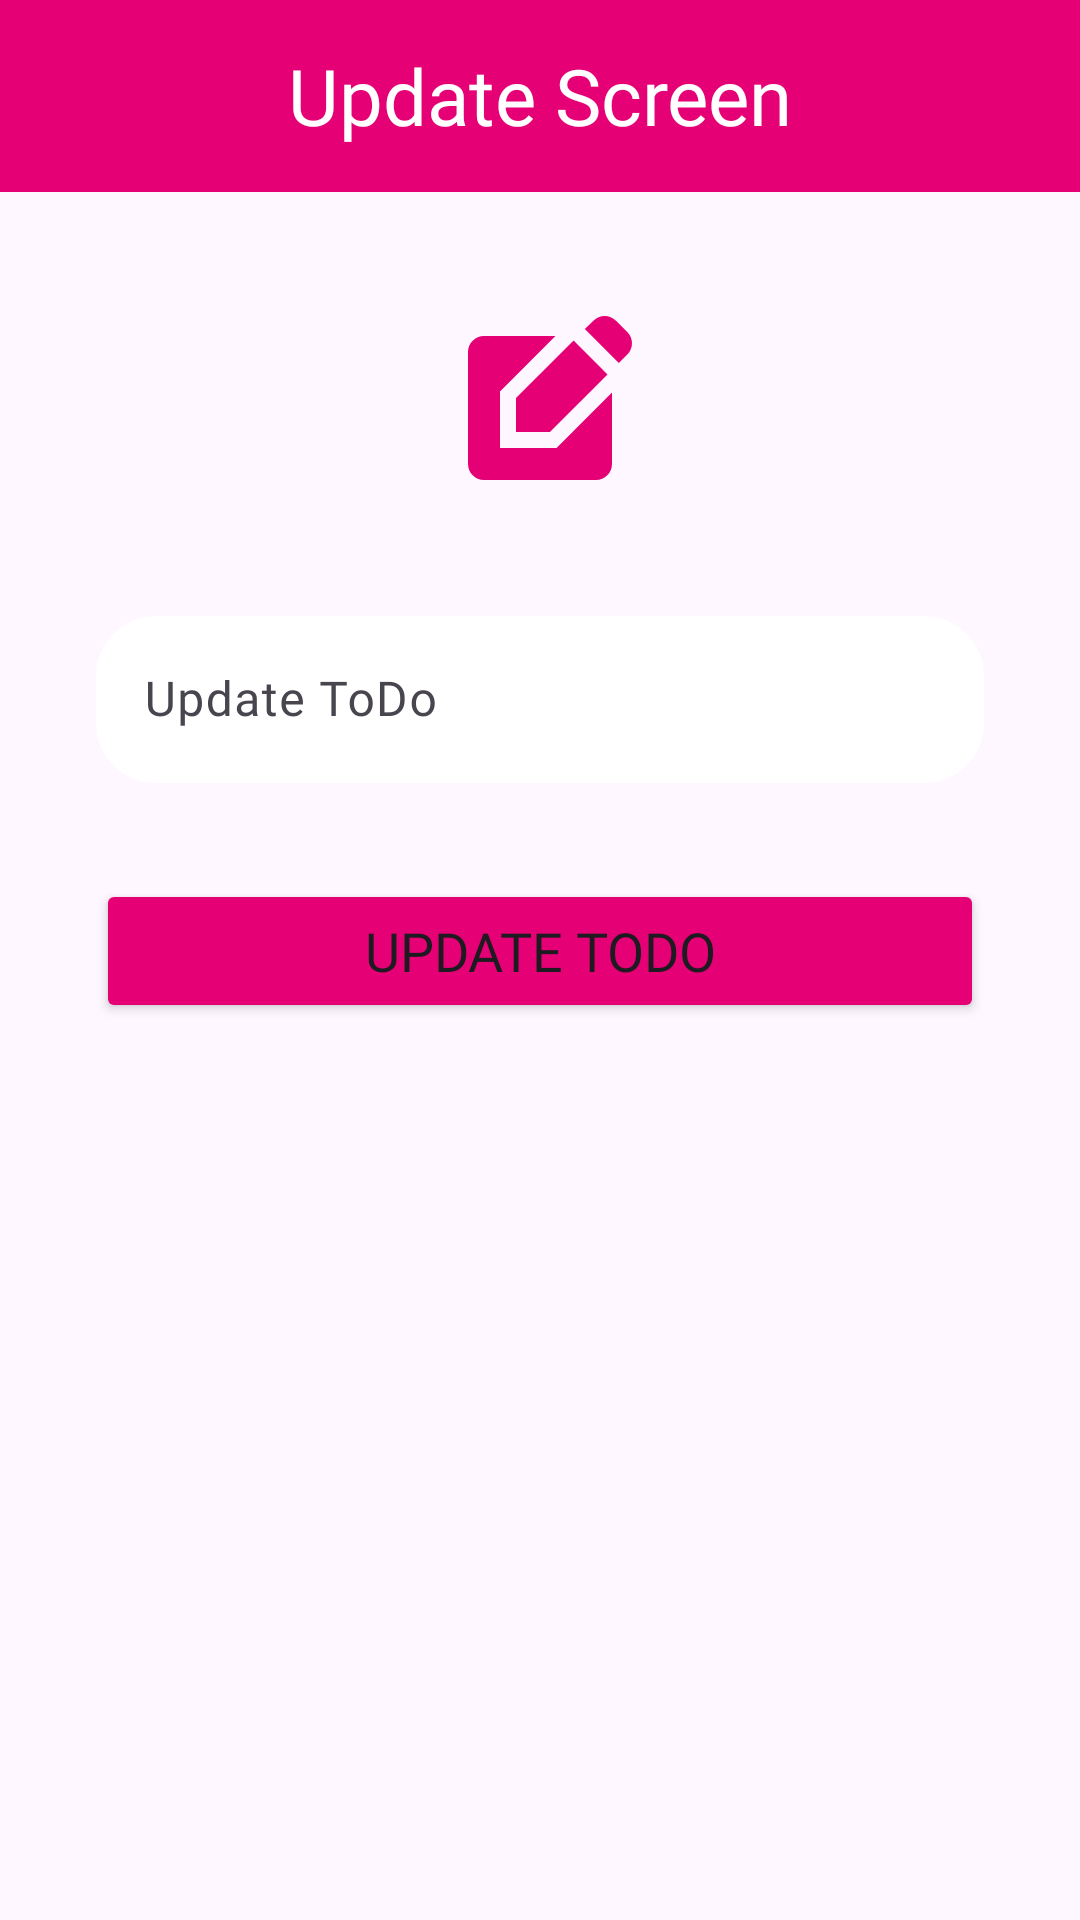

Icon bounding boxes for this 1080x1920 phone screenshot, format [x1, y1, x2, y2]:
edit: [468, 316, 632, 480]
